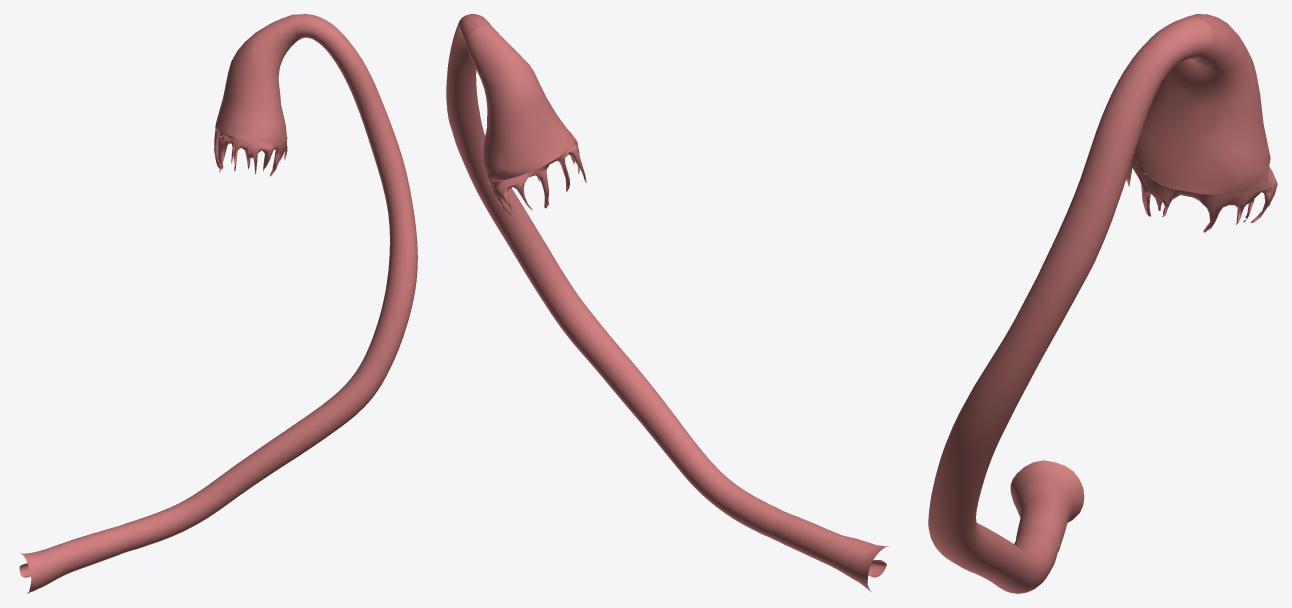
File: vh_f_fallopian_tube_l-40.glb
3 renders of one model, left to right at view 1: azimuth 30°, elevation 25°; view 2: azimuth 150°, elevation 25°; view 3: azimuth 270°, elevation 25°, orthographic. The views are drawn at different scales.
Parts seen in each view (by area): view 1: VH_F_ampulla_of_uterine_tube_L, VH_F_uterine_tube_infundibulum_L, VH_F_isthmus_of_fallopian_tube_L, VH_F_fibria_of_uterine_tube_L; view 2: VH_F_ampulla_of_uterine_tube_L, VH_F_uterine_tube_infundibulum_L, VH_F_isthmus_of_fallopian_tube_L, VH_F_fibria_of_uterine_tube_L; view 3: VH_F_ampulla_of_uterine_tube_L, VH_F_uterine_tube_infundibulum_L, VH_F_isthmus_of_fallopian_tube_L, VH_F_fibria_of_uterine_tube_L.
Boxes of the visible parts, x1=… form: VH_F_ampulla_of_uterine_tube_L: x1=118, y1=14, x2=417, y2=551; VH_F_uterine_tube_infundibulum_L: x1=215, y1=15, x2=299, y2=142; VH_F_isthmus_of_fallopian_tube_L: x1=19, y1=526, x2=127, y2=593; VH_F_fibria_of_uterine_tube_L: x1=214, y1=127, x2=287, y2=176; VH_F_ampulla_of_uterine_tube_L: x1=446, y1=14, x2=785, y2=539; VH_F_uterine_tube_infundibulum_L: x1=465, y1=26, x2=574, y2=180; VH_F_isthmus_of_fallopian_tube_L: x1=771, y1=512, x2=889, y2=592; VH_F_fibria_of_uterine_tube_L: x1=486, y1=136, x2=586, y2=216; VH_F_ampulla_of_uterine_tube_L: x1=928, y1=16, x2=1213, y2=593; VH_F_uterine_tube_infundibulum_L: x1=1133, y1=14, x2=1270, y2=194; VH_F_isthmus_of_fallopian_tube_L: x1=1010, y1=460, x2=1084, y2=551; VH_F_fibria_of_uterine_tube_L: x1=1126, y1=158, x2=1277, y2=232.
Size of the model in its own units: 0.0386 by 0.0445 by 0.0186.
